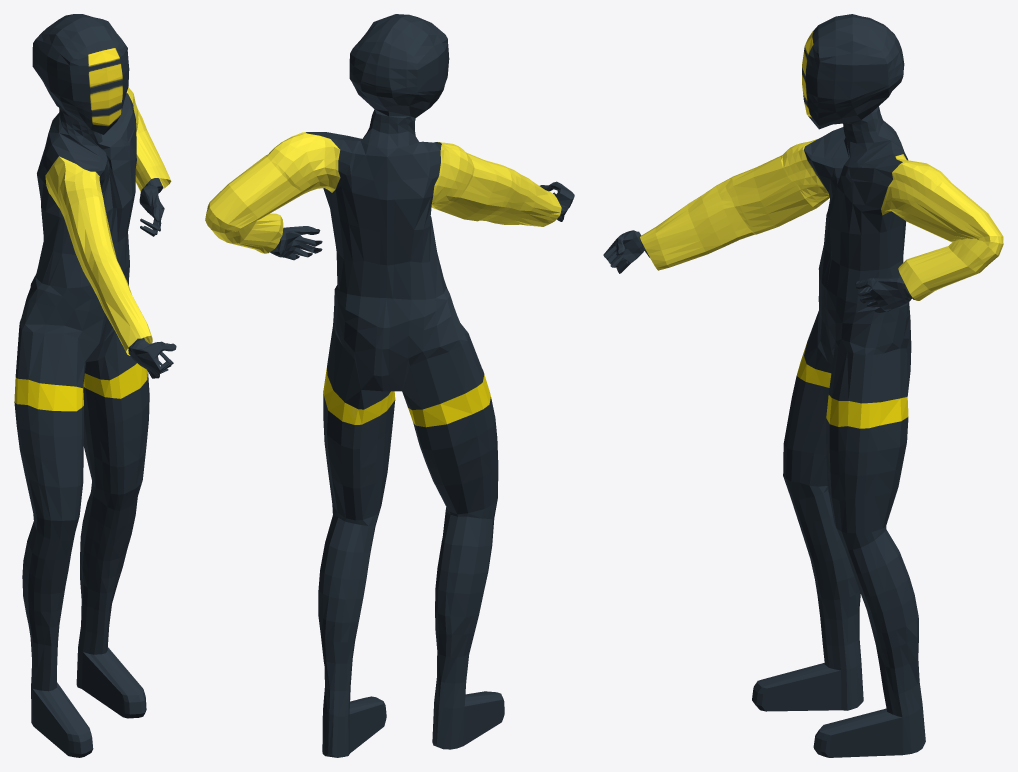
File: Sentry_WF_000015.obj
3 renders of one model, left to right at view 1: azimuth 30°, elevation 25°; view 2: azimuth 150°, elevation 25°; view 3: azimuth 270°, elevation 25°, orthographic. The views are drawn at different scales.
Visible parts, largest first — view 1: Cube; view 2: Cube; view 3: Cube.
Boxes of the visible parts, x1,y1,x2,y2 form: Cube: (14, 14, 176, 757); Cube: (205, 14, 574, 757); Cube: (603, 14, 1003, 757).
Bounding box in the file's own units: 1.16 × 3.91 × 1.98.
